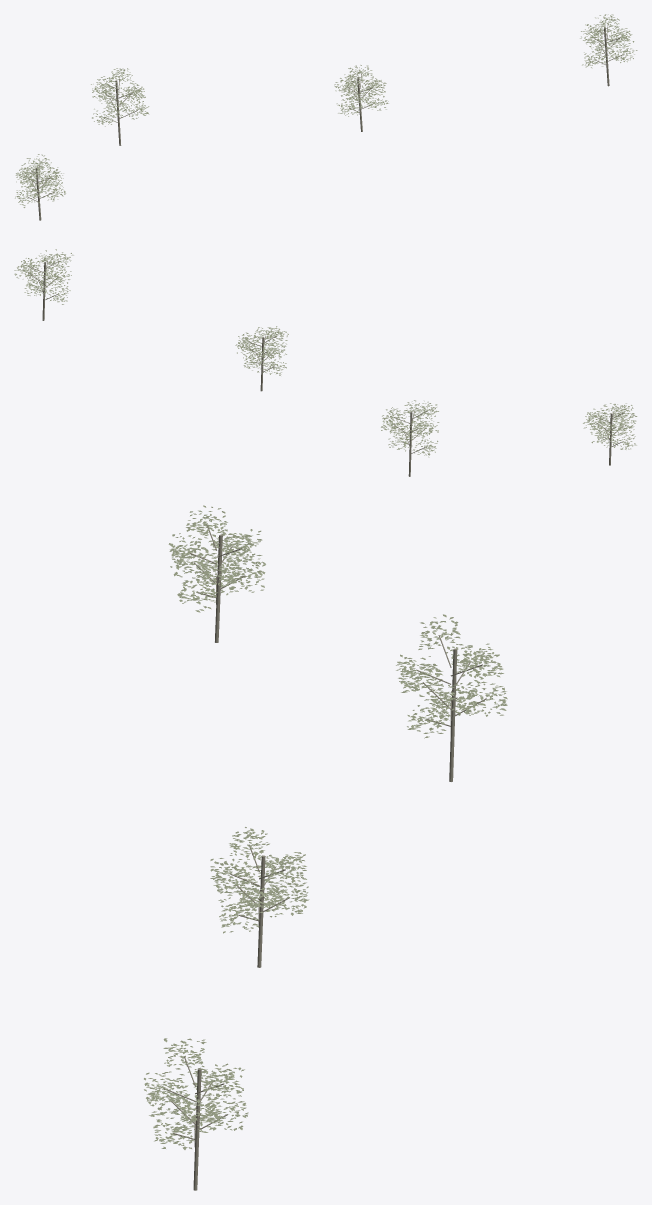
The model's file is AE_ColonisingTrees_1.fbx.
3 views of the same model, one above another, from view 1: azimuth 30°, elevation 25°; view 2: azimuth 150°, elevation 25°; view 3: azimuth 270°, elevation 25° (orthographic). The views are drawn at different scales.
Visible parts, largest first — view 1: AE_ColonisingTrees_1_LOD0; view 2: AE_ColonisingTrees_1_LOD0; view 3: AE_ColonisingTrees_1_LOD0.
Boxes of the visible parts, x1,y1,x2,y2 form: AE_ColonisingTrees_1_LOD0: (15,14,637,220); AE_ColonisingTrees_1_LOD0: (14,249,637,476); AE_ColonisingTrees_1_LOD0: (144,505,507,1190).
Size of what is drawn, in the model's own units: 6593 by 747 by 1713.
